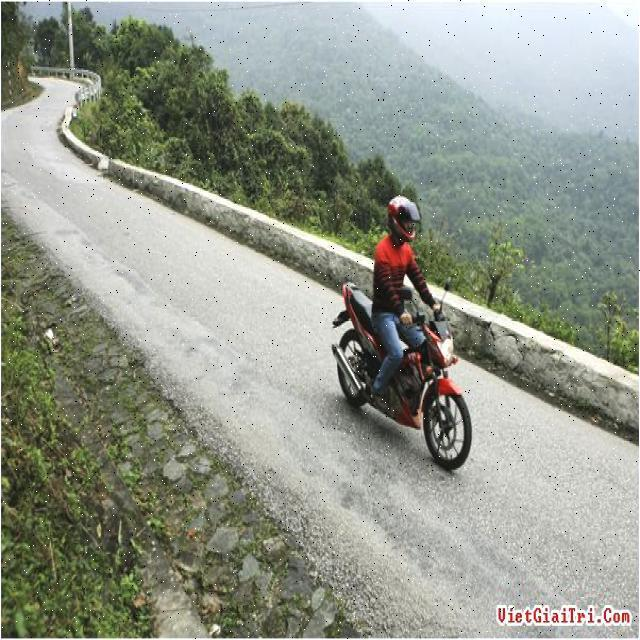motorcycle: (325, 269, 483, 474)
